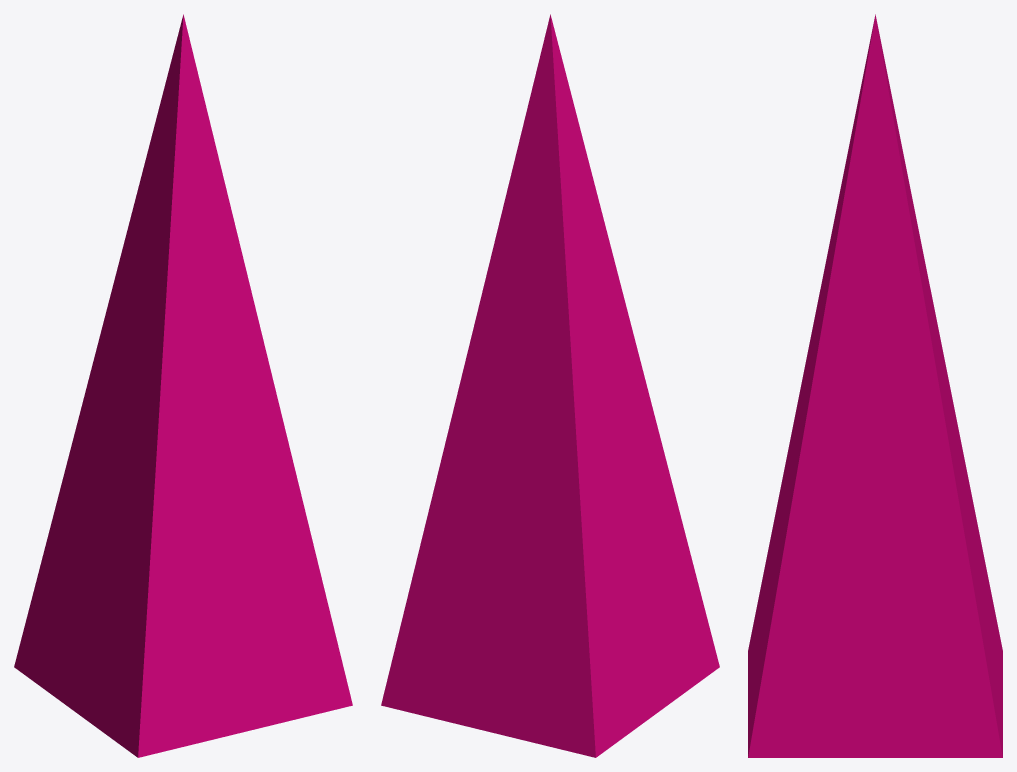
The model's file is Obstacle001.fbx.
The picture shows the model from 3 angles, left to right: view 1: azimuth 30°, elevation 25°; view 2: azimuth 150°, elevation 25°; view 3: azimuth 270°, elevation 25°; orthographic projection. The views are drawn at different scales.
Visible parts, largest first — view 1: Plane; view 2: Plane; view 3: Plane.
Boxes of the visible parts, left/top/right/bottom form: Plane: left=14, top=14, right=352, bottom=757; Plane: left=381, top=14, right=719, bottom=757; Plane: left=748, top=14, right=1002, bottom=757.
Bounding box in the file's own units: 200 × 598 × 200.
